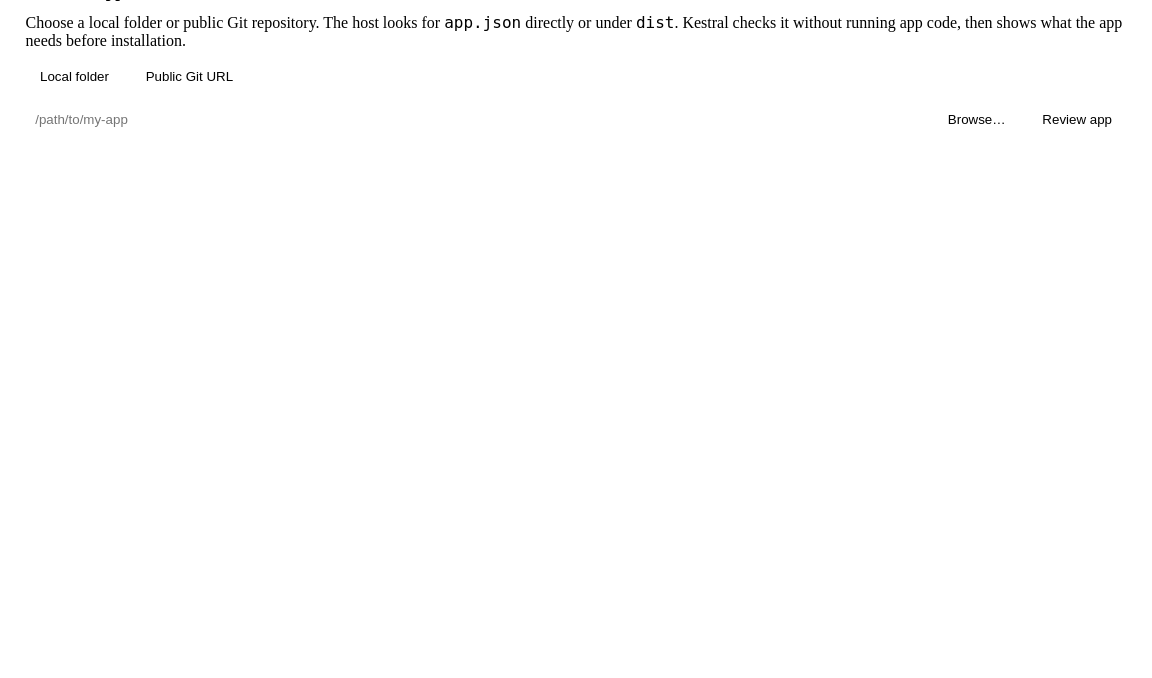
Scenario: InstallPanel › keeps native authority and extension breakage warnings visible in review
In the field named "Package directory path": (476, 119) [26, 104, 925, 135], type "C:/pkgs/example"
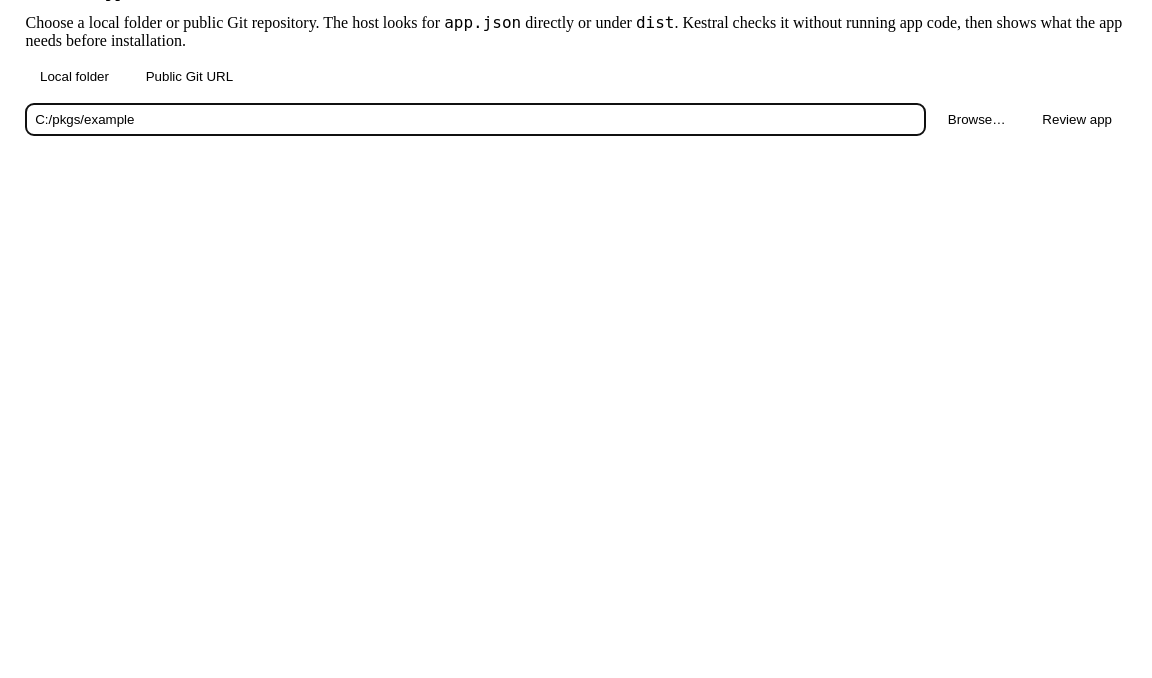
Click the button "Review app": (1077, 119) [1028, 104, 1126, 135]
(page scrolled)
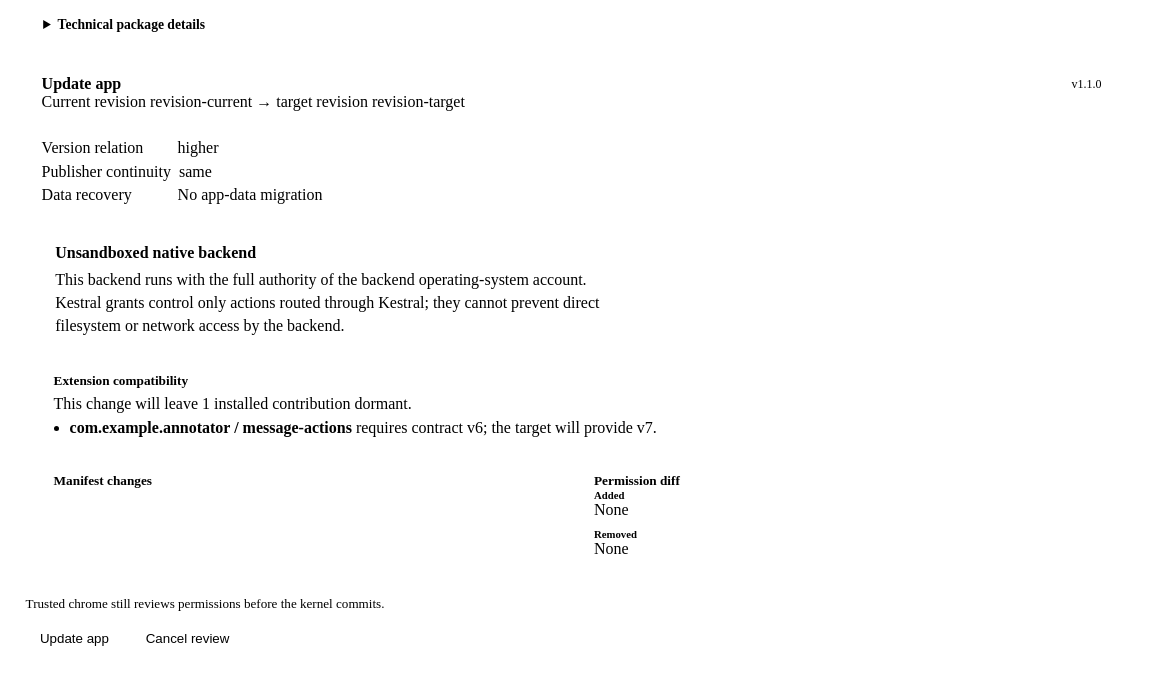
Now the number of elements named "Unsandboxed native backend warning" is 1, box [55, 244, 600, 334]
Now the element named "Extension compatibility warning" is shown, box [54, 373, 657, 436]
Now the text "This change will leave 1 installed contribution dormant." is shown, box [54, 395, 412, 412]
